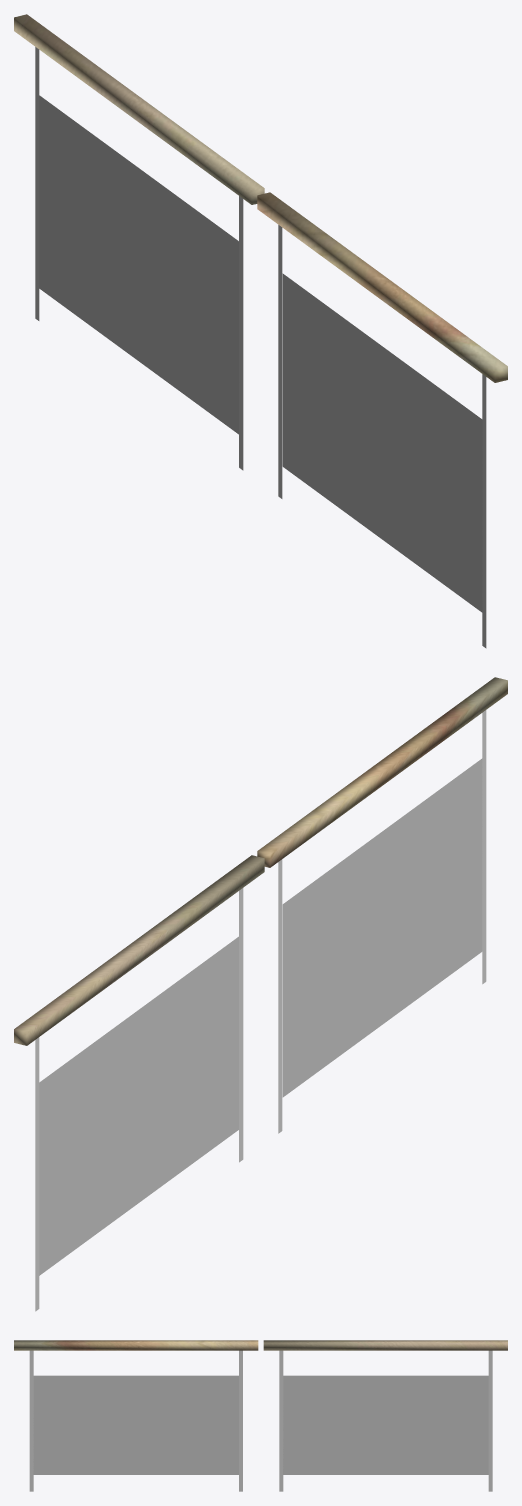
Rendered from Fence.fbx.
3 renders of one model, top to bottom at view 1: azimuth 30°, elevation 25°; view 2: azimuth 150°, elevation 25°; view 3: azimuth 270°, elevation 25°, orthographic. The views are drawn at different scales.
Parts seen in each view (by area): view 1: Plane.002, Plane.004; view 2: Plane.004, Plane.002; view 3: Plane.004, Plane.002.
Boxes of the visible parts, x1,y1,x2,y2 form: Plane.002: (257, 192, 507, 648); Plane.004: (14, 14, 264, 470); Plane.004: (14, 855, 264, 1311); Plane.002: (257, 677, 507, 1133); Plane.004: (263, 1340, 507, 1491); Plane.002: (14, 1340, 258, 1491).
Size of the model in its own units: 5.44 by 117 by 348.
